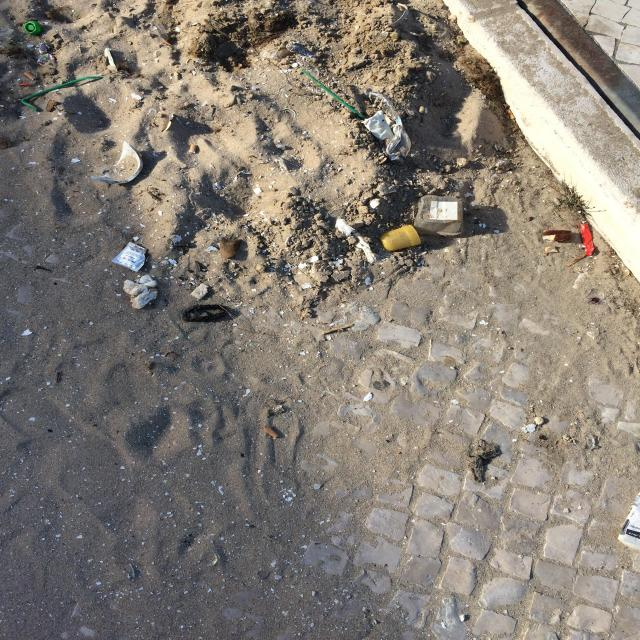litter: (363, 86, 412, 166), (300, 69, 367, 122), (21, 75, 107, 112), (414, 194, 466, 238), (119, 273, 161, 311), (107, 237, 151, 273), (378, 223, 423, 252), (180, 302, 239, 323), (359, 109, 396, 141), (218, 236, 246, 261), (34, 40, 56, 65), (22, 19, 44, 37), (260, 424, 281, 441), (22, 69, 38, 81), (186, 142, 200, 155), (505, 108, 516, 120)
